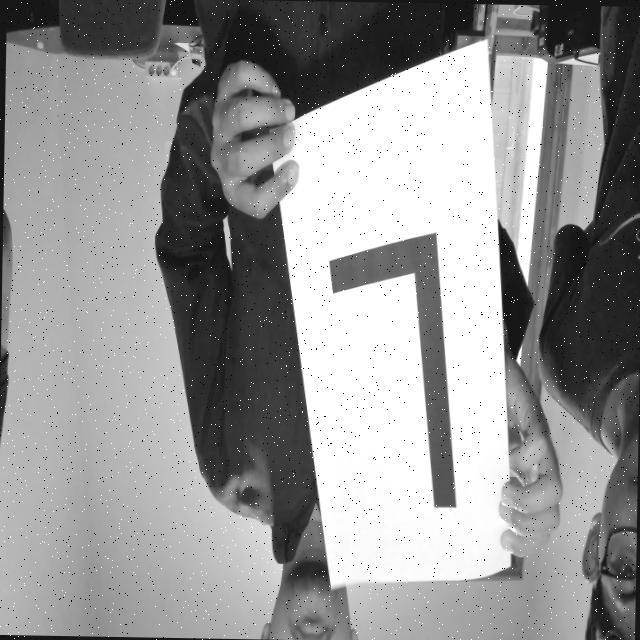l: (298, 176, 482, 542)
